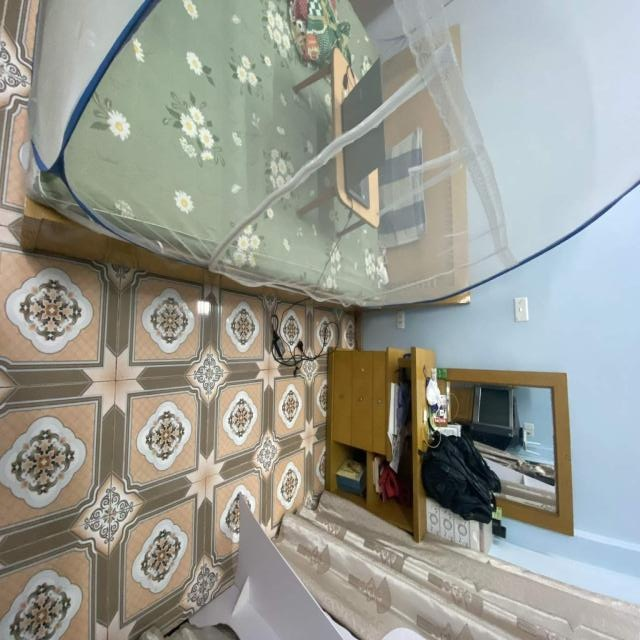outlet: (397, 311, 406, 329)
